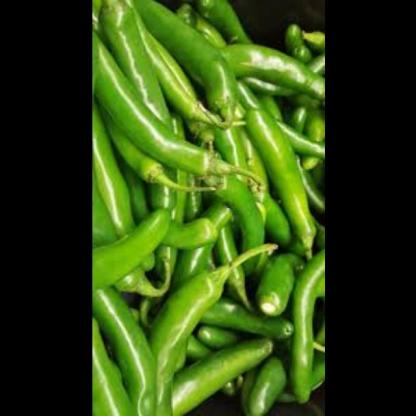hot pepper: (92, 0, 325, 416)
